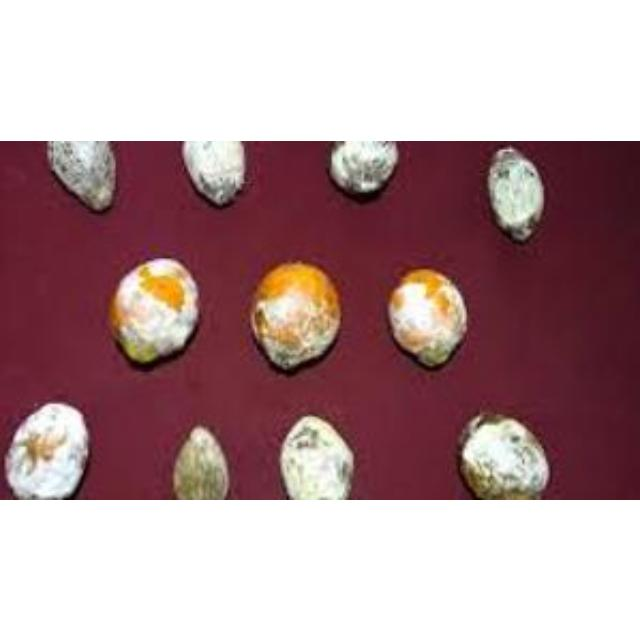damaged: (106, 255, 202, 365), (250, 258, 342, 368), (2, 402, 90, 498), (386, 266, 468, 366), (458, 410, 552, 496), (484, 141, 546, 243), (280, 414, 354, 498), (46, 141, 116, 211), (172, 425, 232, 499), (182, 141, 248, 205), (329, 140, 397, 194)
